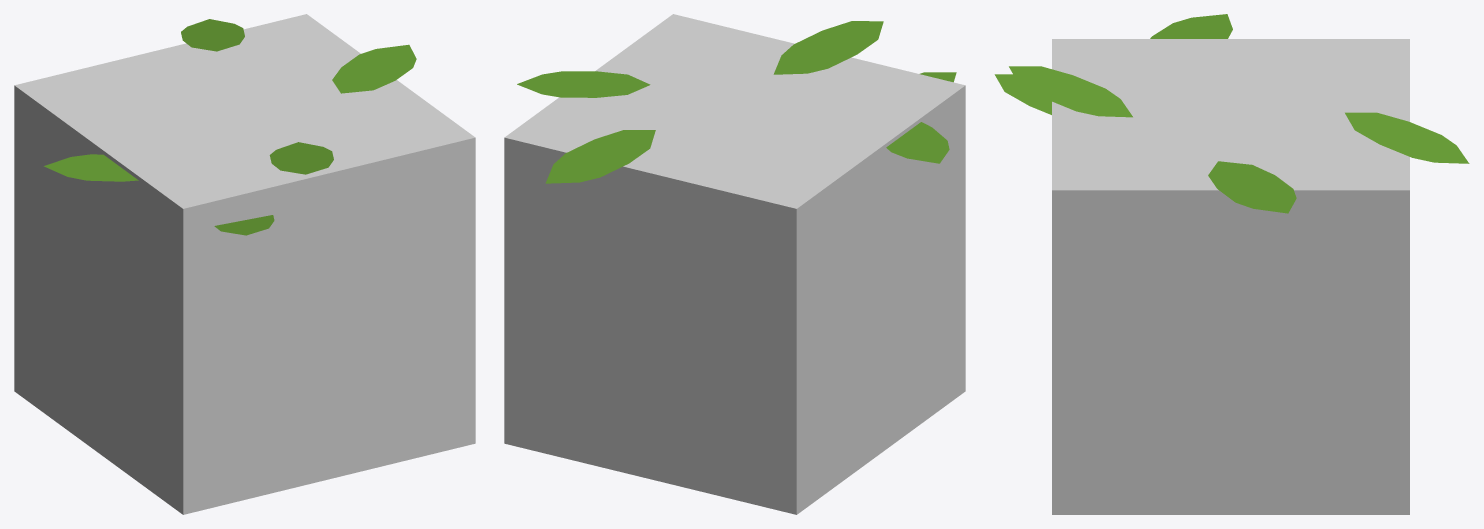
The model's file is Rumput.fbx.
3 views of the same model, side by side, from view 1: azimuth 30°, elevation 25°; view 2: azimuth 150°, elevation 25°; view 3: azimuth 270°, elevation 25° (orthographic). The views are drawn at different scales.
Parts seen in each view (by area): view 1: Cube, Plane, Plane.001, Plane.002, Plane.003, Plane.004; view 2: Cube, Plane.003, Plane.002, Plane, Plane.001; view 3: Cube, Plane.002, Plane.003, Plane, Plane.001, Plane.004.
Boxes of the visible parts, <box> form: Cube: <box>14,14,475,514</box>; Plane: <box>332,44,416,93</box>; Plane.001: <box>44,154,138,181</box>; Plane.002: <box>181,19,244,51</box>; Plane.003: <box>269,142,333,174</box>; Plane.004: <box>214,215,274,235</box>; Cube: <box>504,14,965,514</box>; Plane.003: <box>773,21,883,74</box>; Plane.002: <box>545,130,655,183</box>; Plane: <box>517,71,650,97</box>; Plane.001: <box>886,122,949,163</box>; Cube: <box>1052,39,1409,514</box>; Plane.002: <box>1345,112,1469,163</box>; Plane.003: <box>1009,66,1132,117</box>; Plane: <box>1208,161,1296,213</box>; Plane.001: <box>1150,14,1232,38</box>; Plane.004: <box>994,74,1051,114</box>.
Size of the model in its own units: 270 by 216 by 265.
